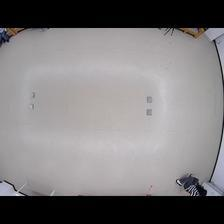fall: (176, 175, 208, 195)
